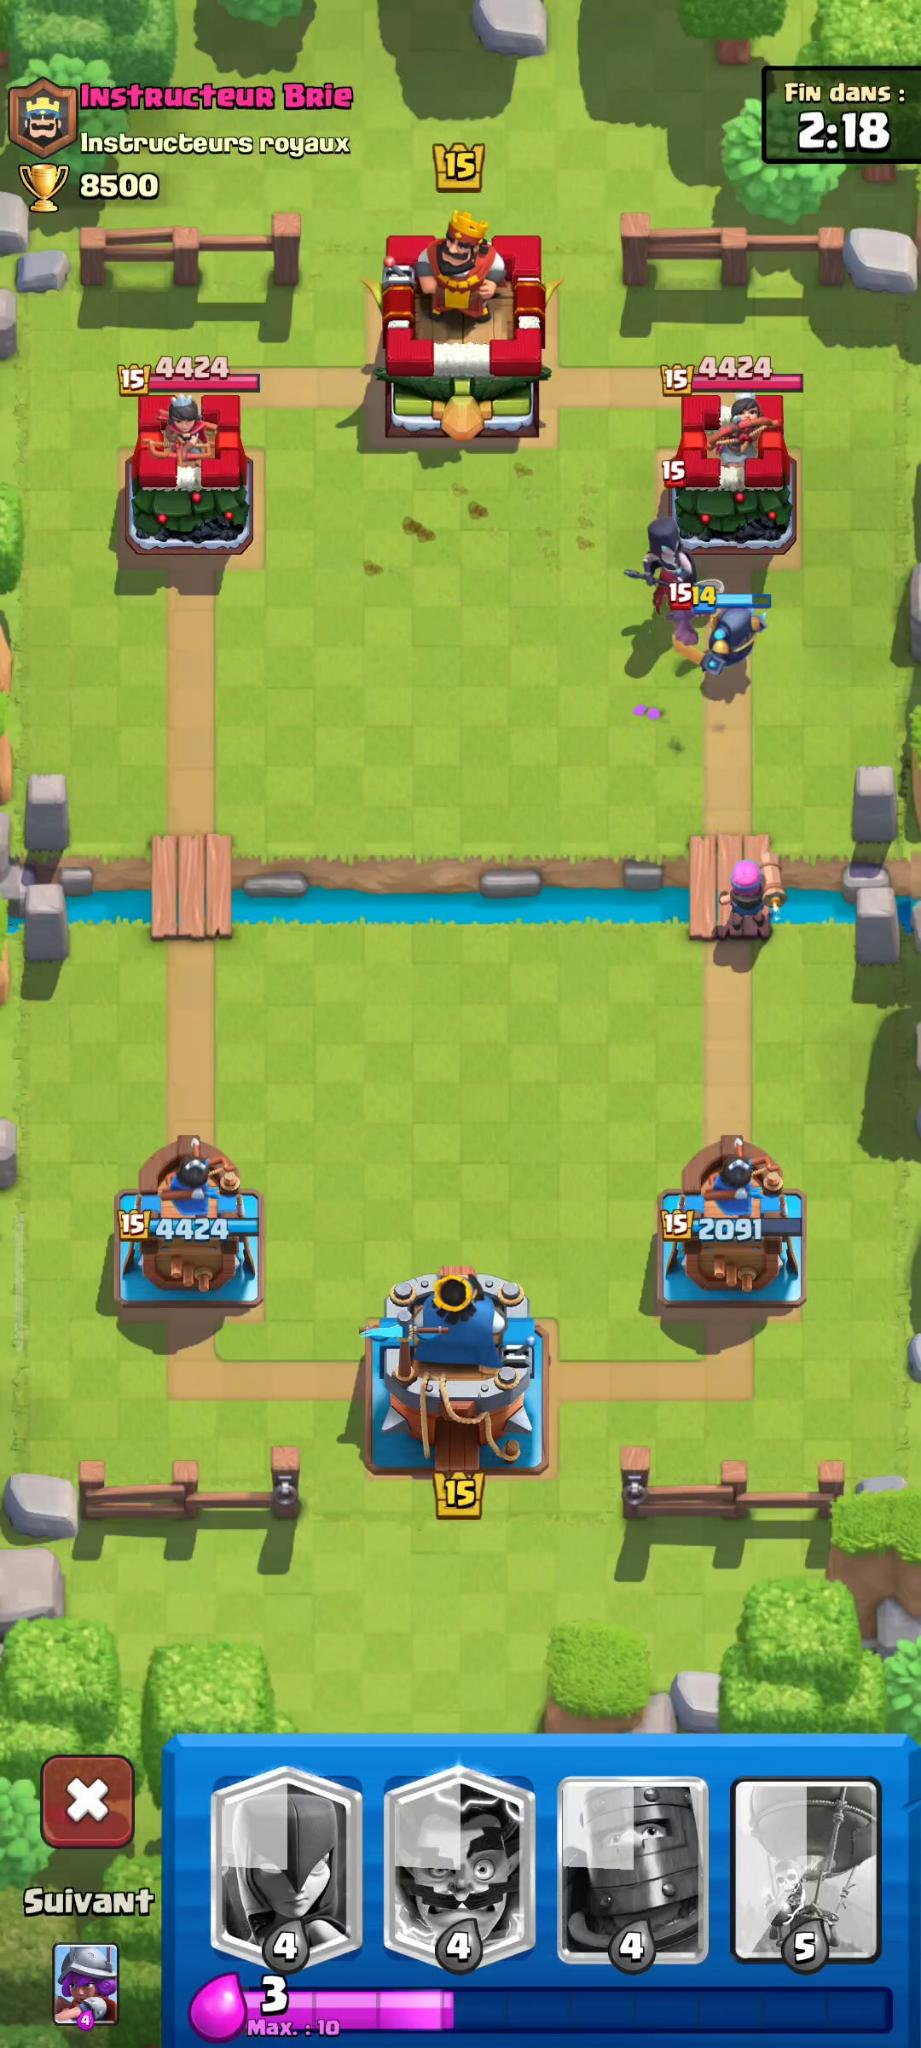bat: (657, 577, 715, 643)
mini_PEKKA: (696, 597, 776, 691)
